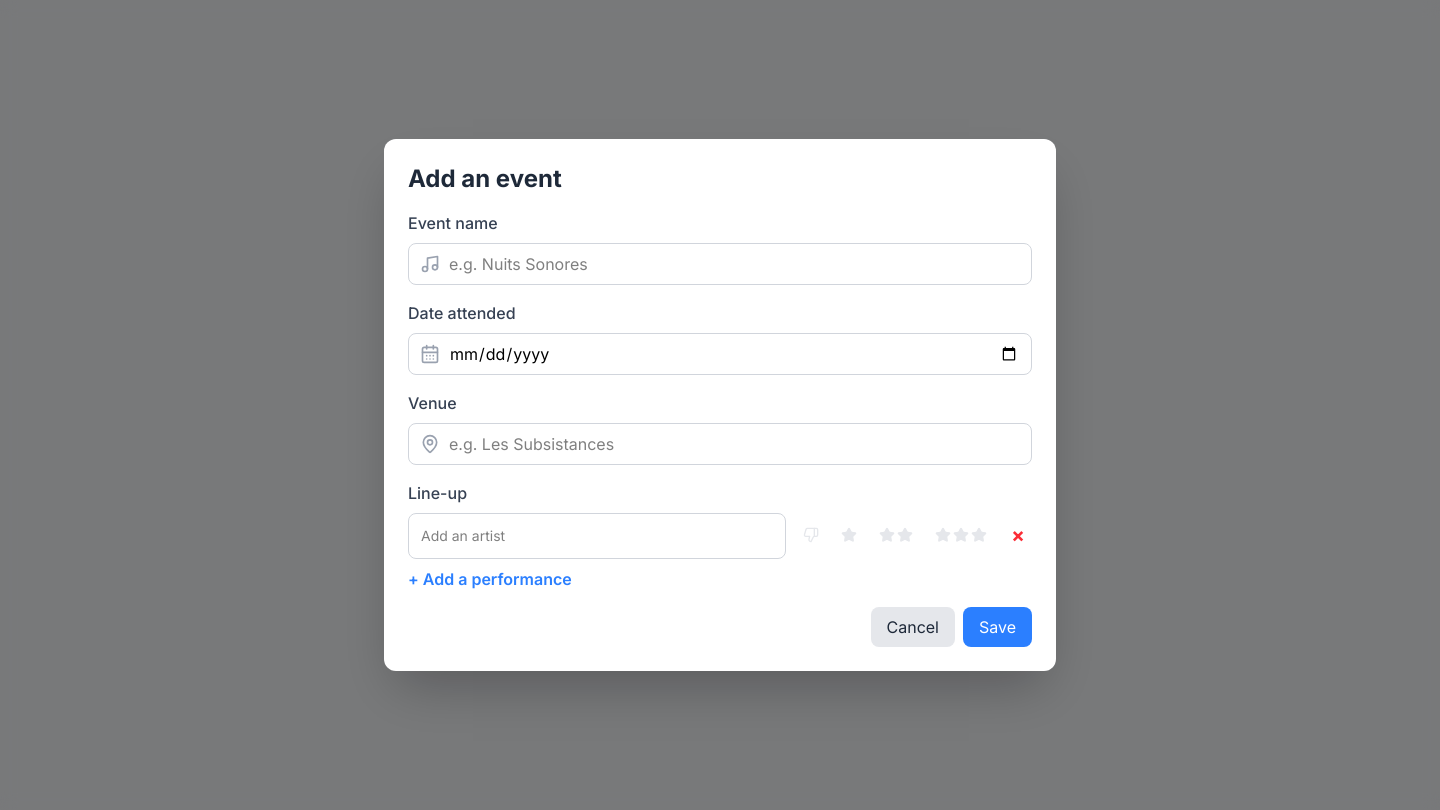
EventModal › keeps a performance whose artist was typed but never committed with Enter
In the field with id "event-name": (720,264) [408,243,1032,285], type "Nuits Sonores"
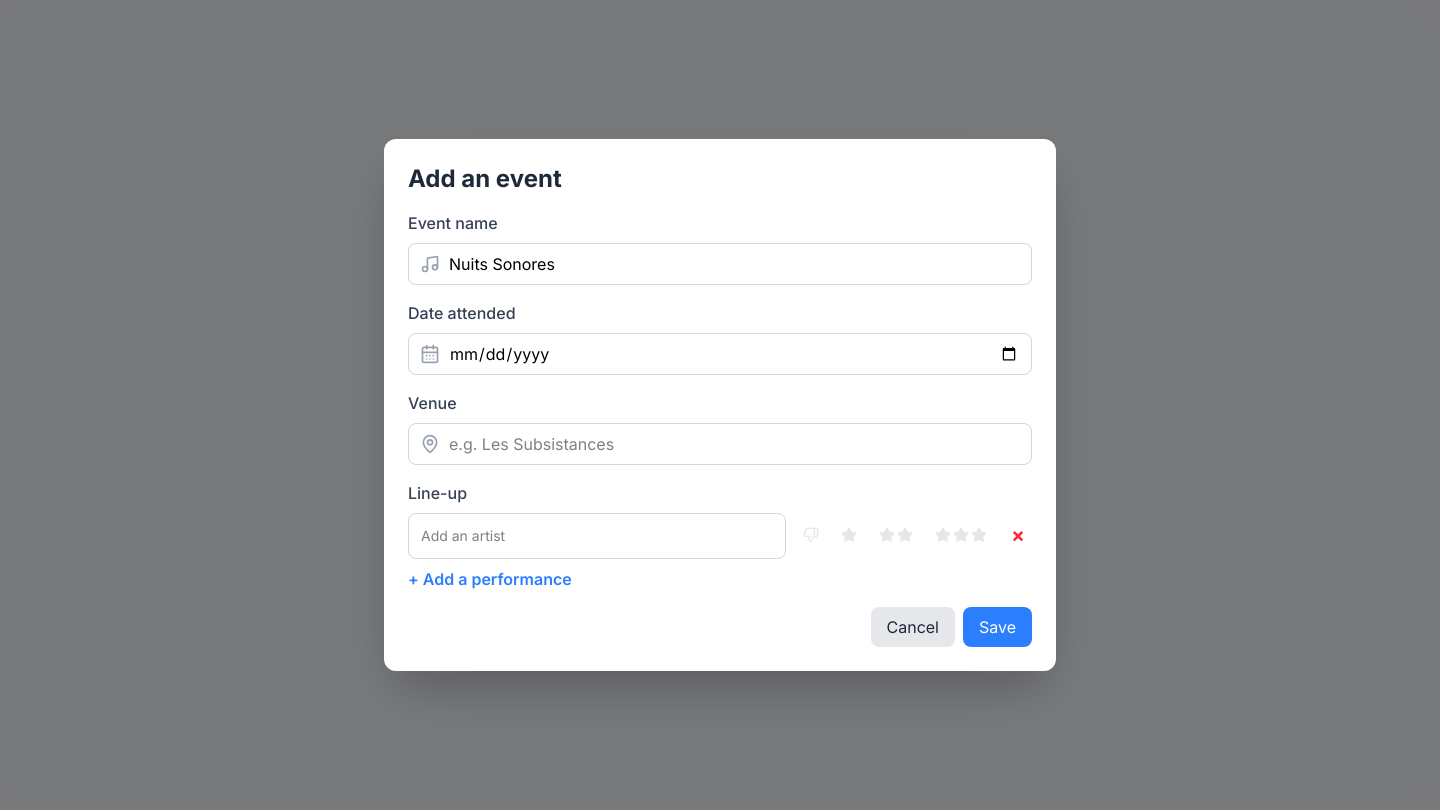
In the date field with id "event-date": (720,354) [408,333,1032,375], type "2026-05-04"
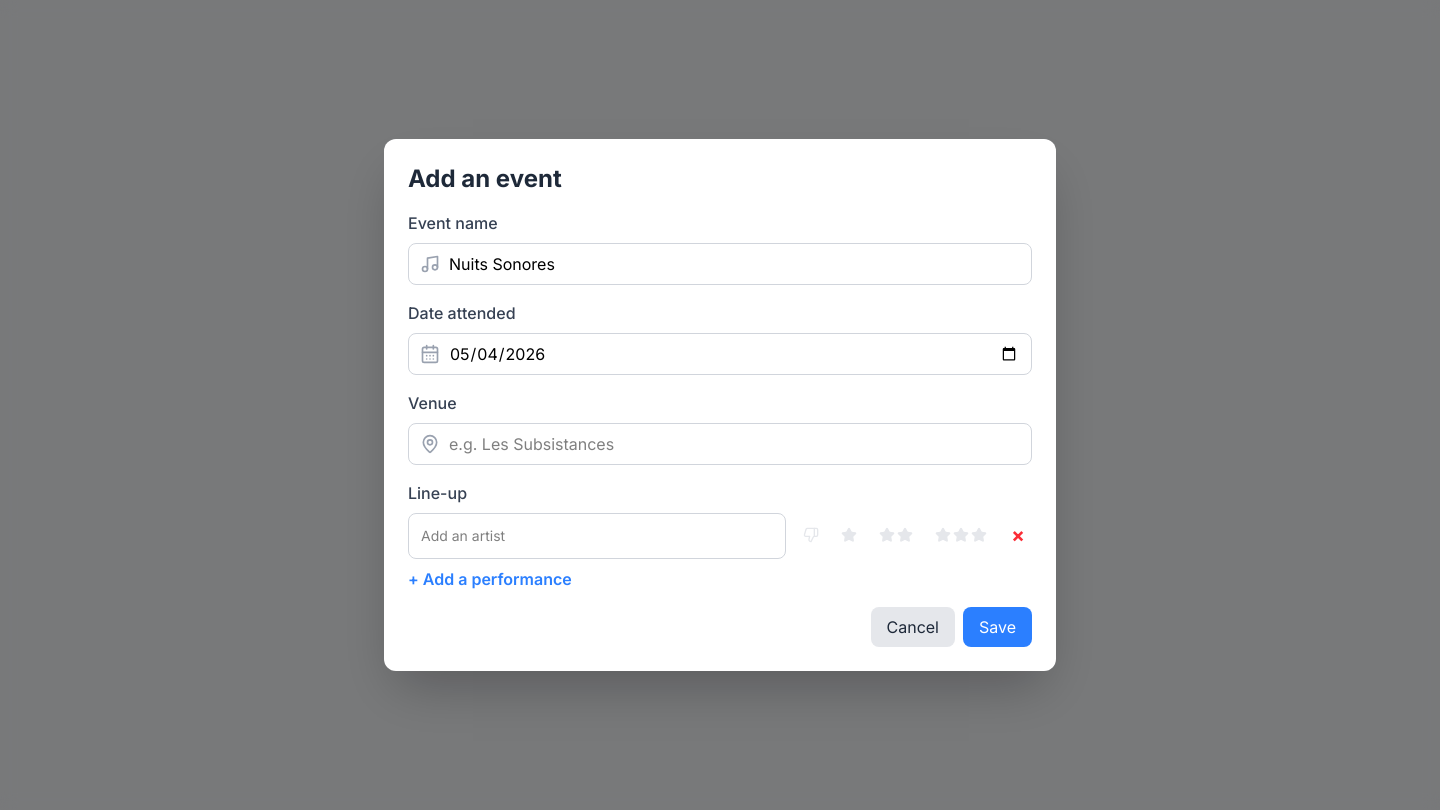
In the field with placeholder "Add an artist": (597,536) [417,522,777,550], type "Anetha"
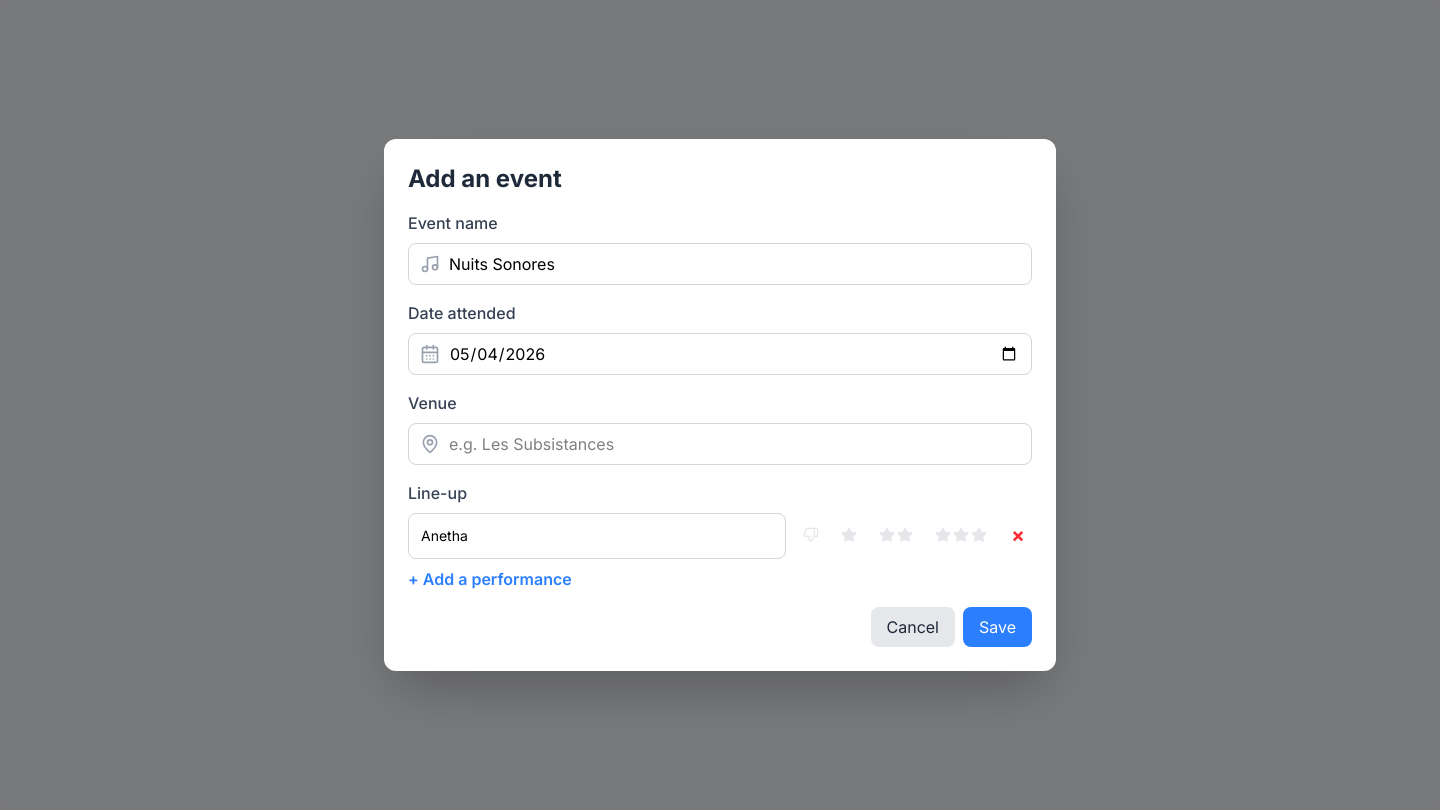
Expected: the element showing "×" is shown, [408,513,1032,559]
Click the button named "Three stars": (961,535) [926,522,996,548]
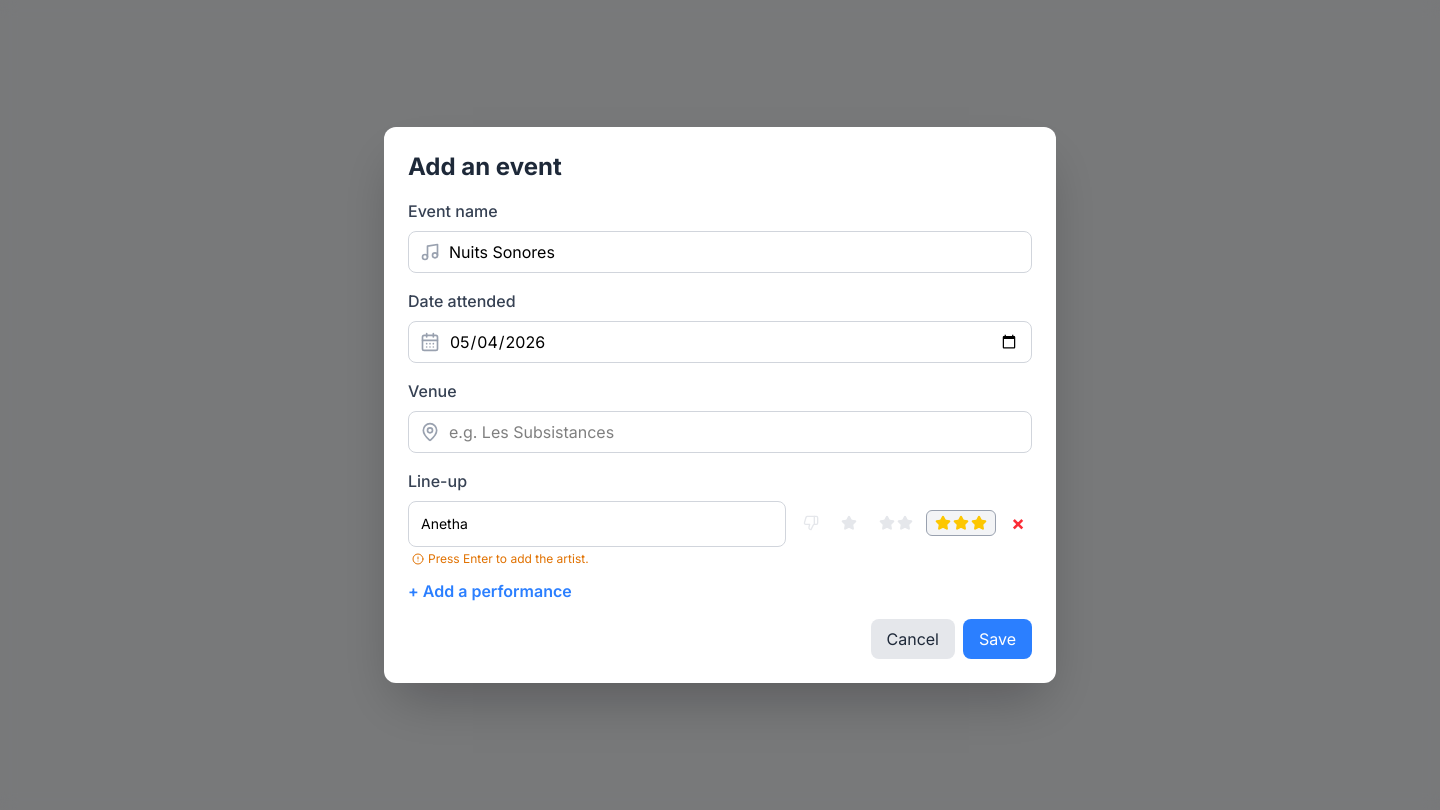
Submit the form, box [408,199,1032,659]
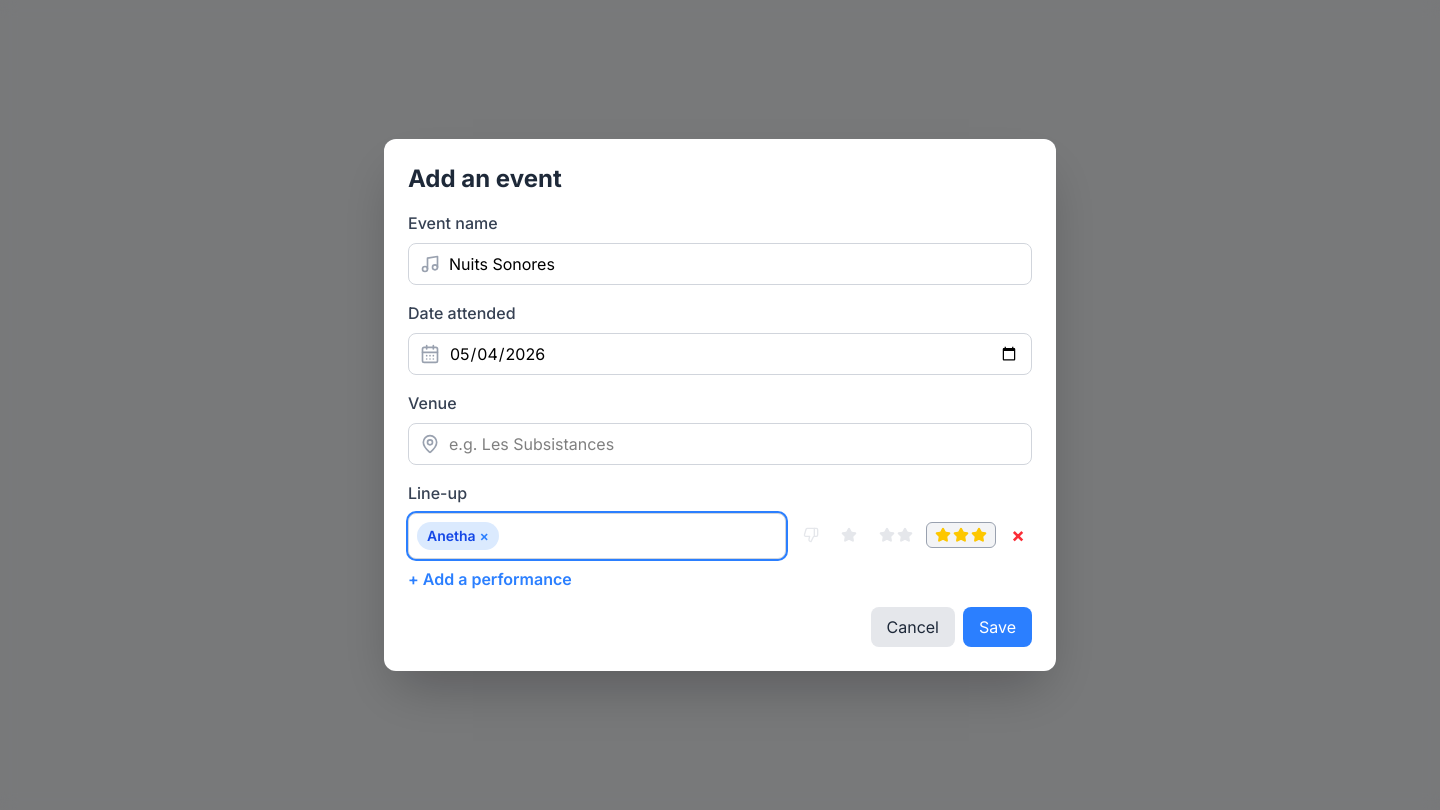
Expected: the text "Anetha" is shown, [427,526,476,546]
